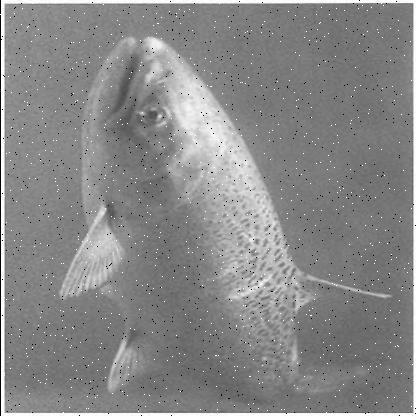fish: (56, 37, 388, 406)
